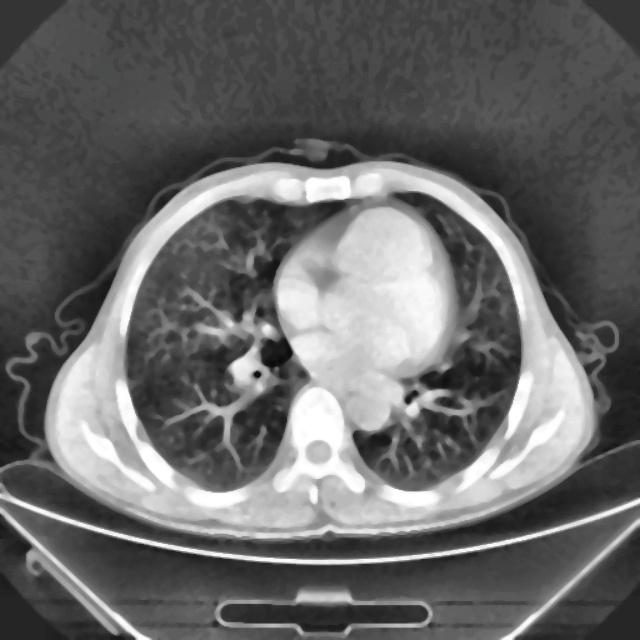covid: (41, 139, 607, 541)
